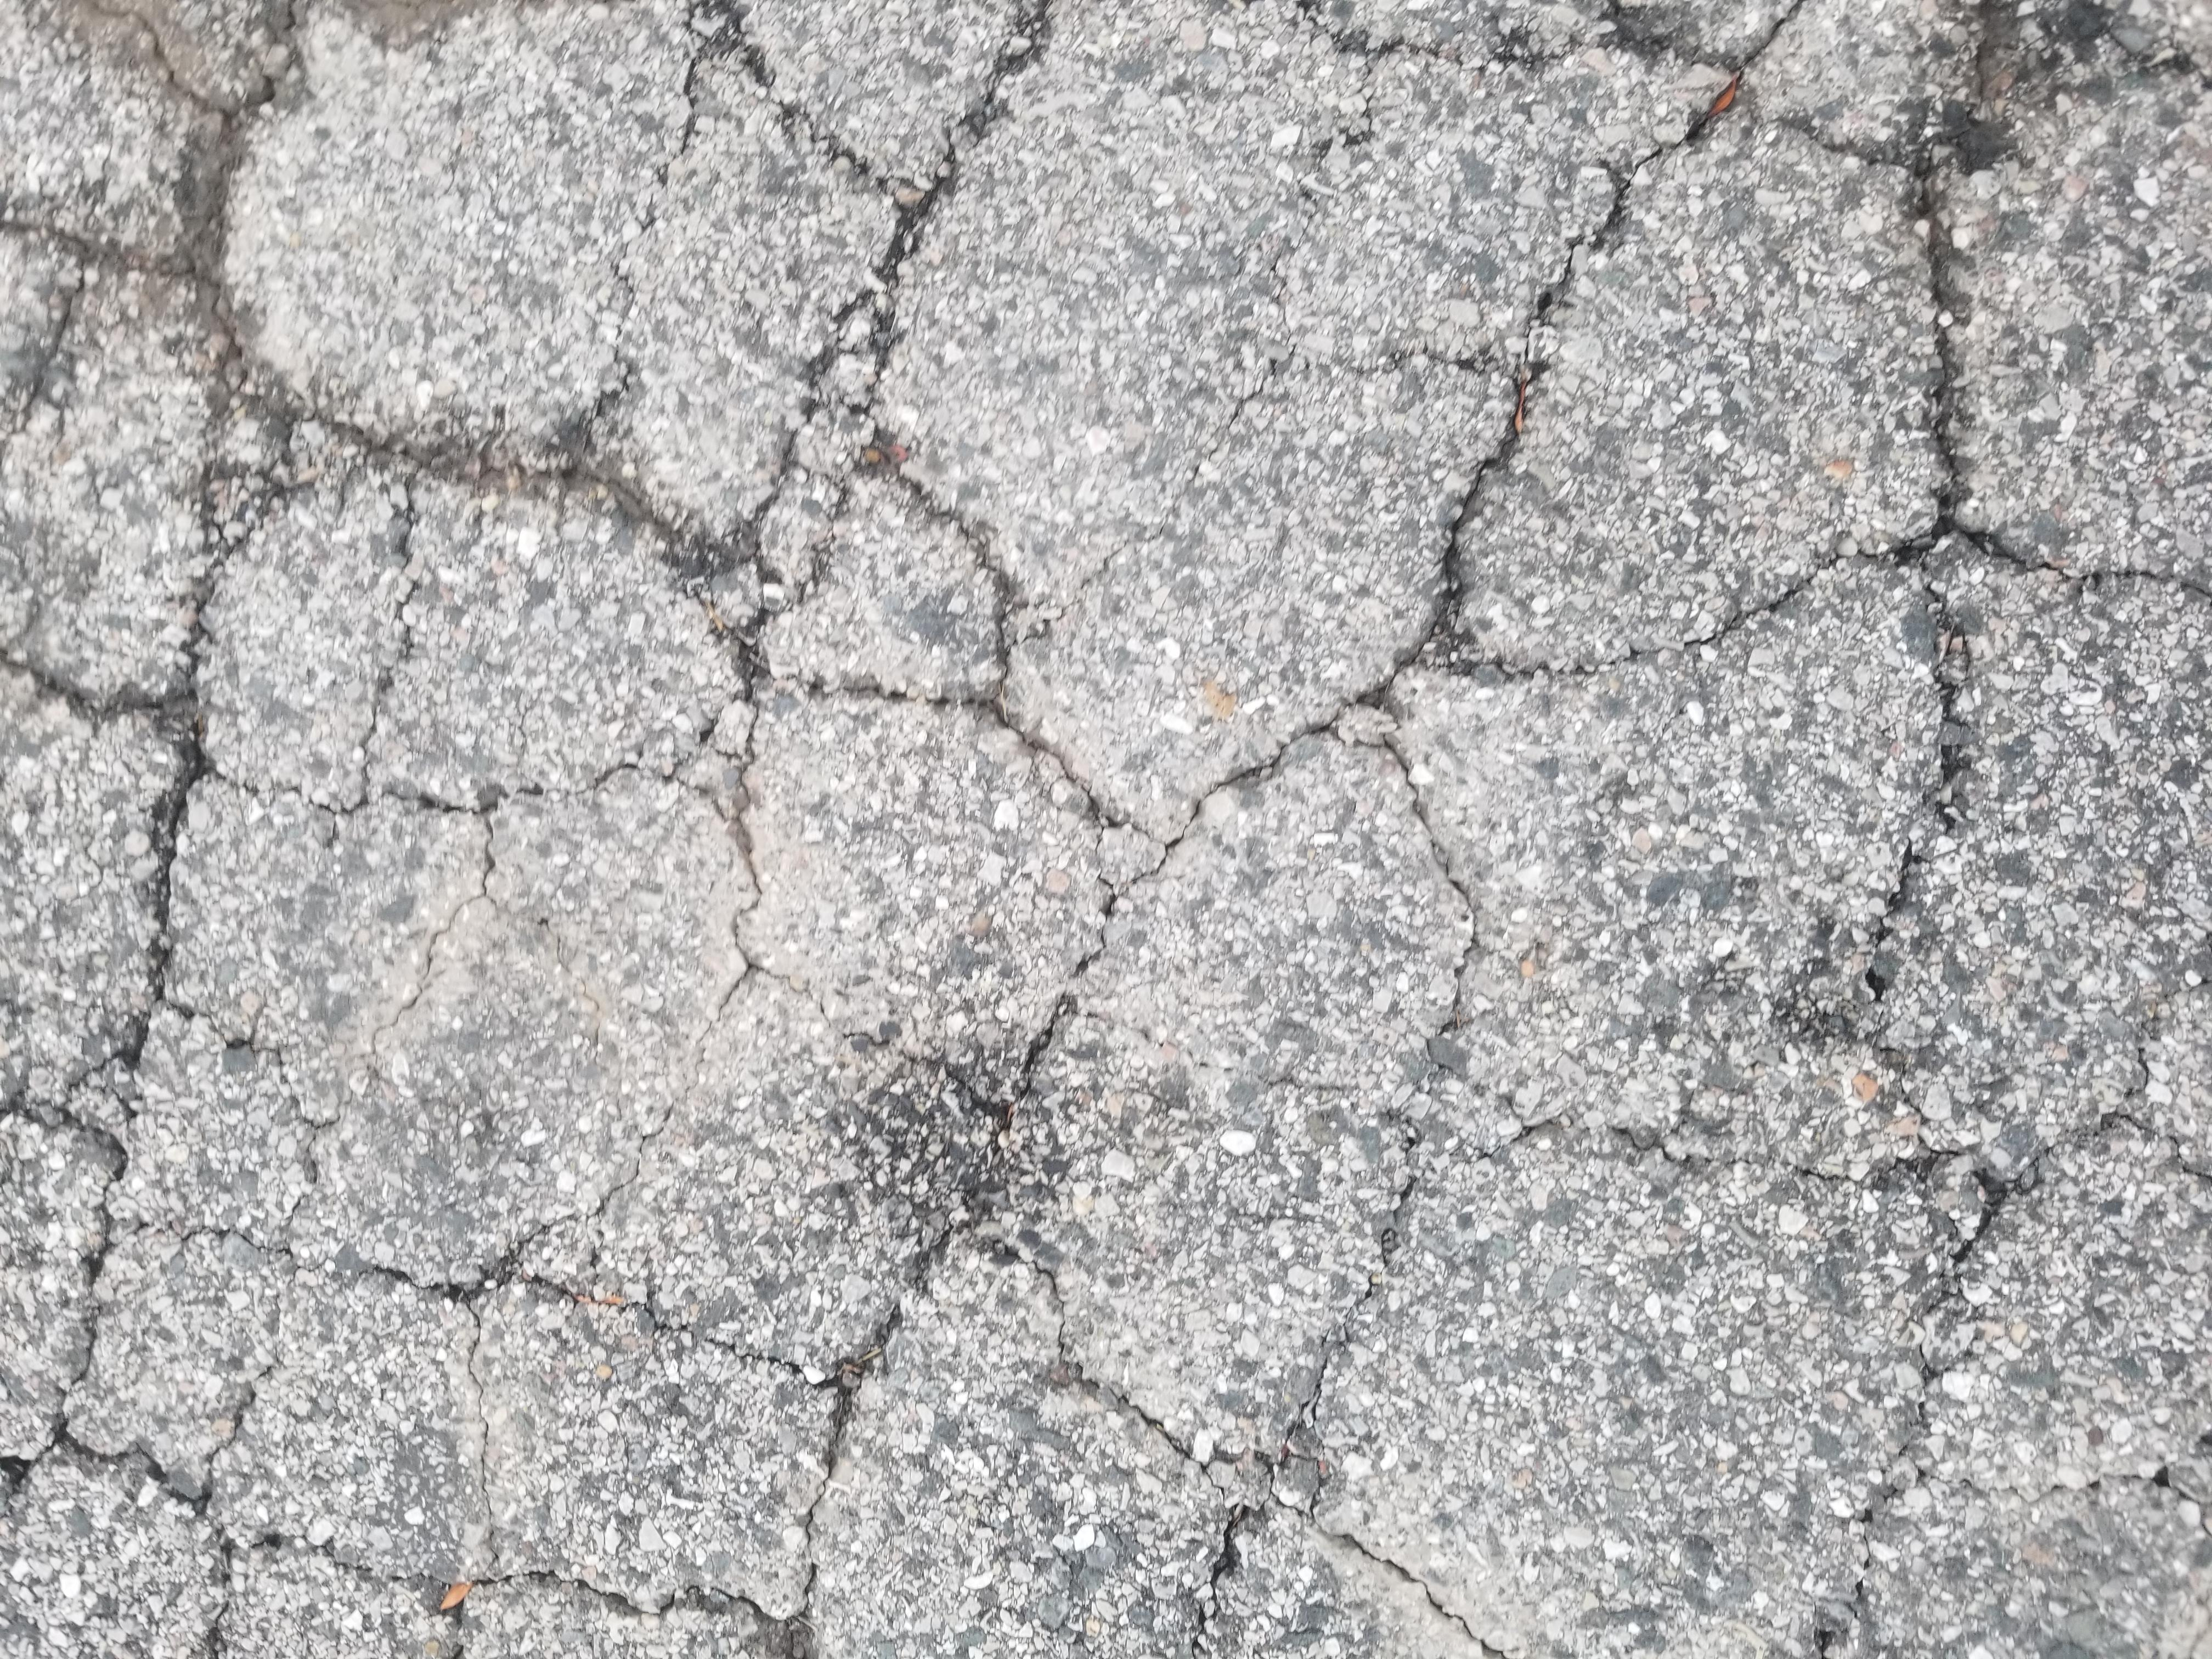alligator-crack: (0, 9, 2212, 1656)
